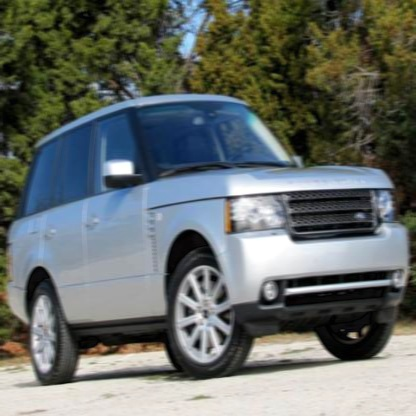Vehicle: (6, 93, 410, 384)
